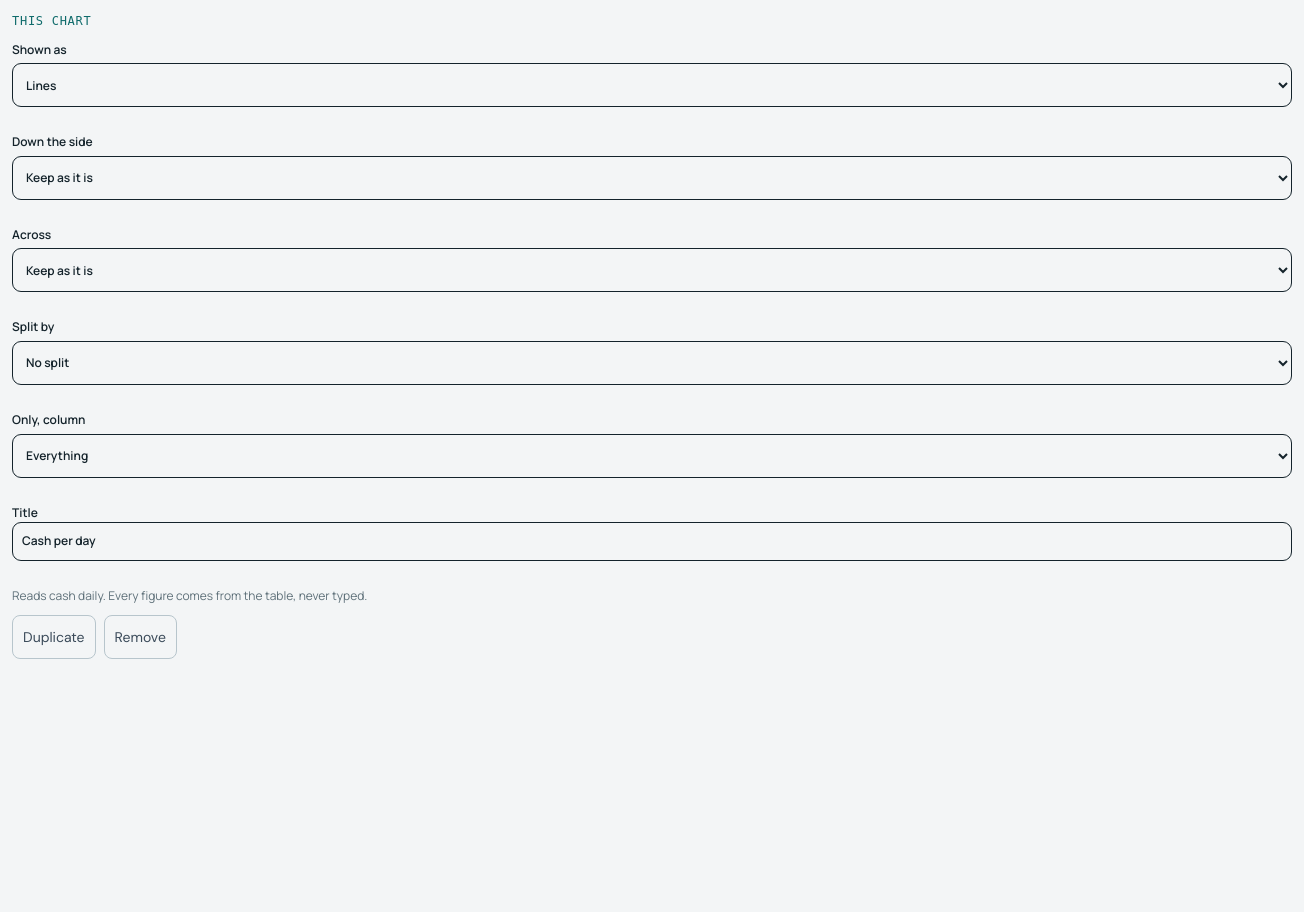
it: Inspector › says so when a change is refused
Select "Bars" in the dropdown labelled "Shown as" at [652, 85], box x1=12 y1=63 x2=1292 y2=107
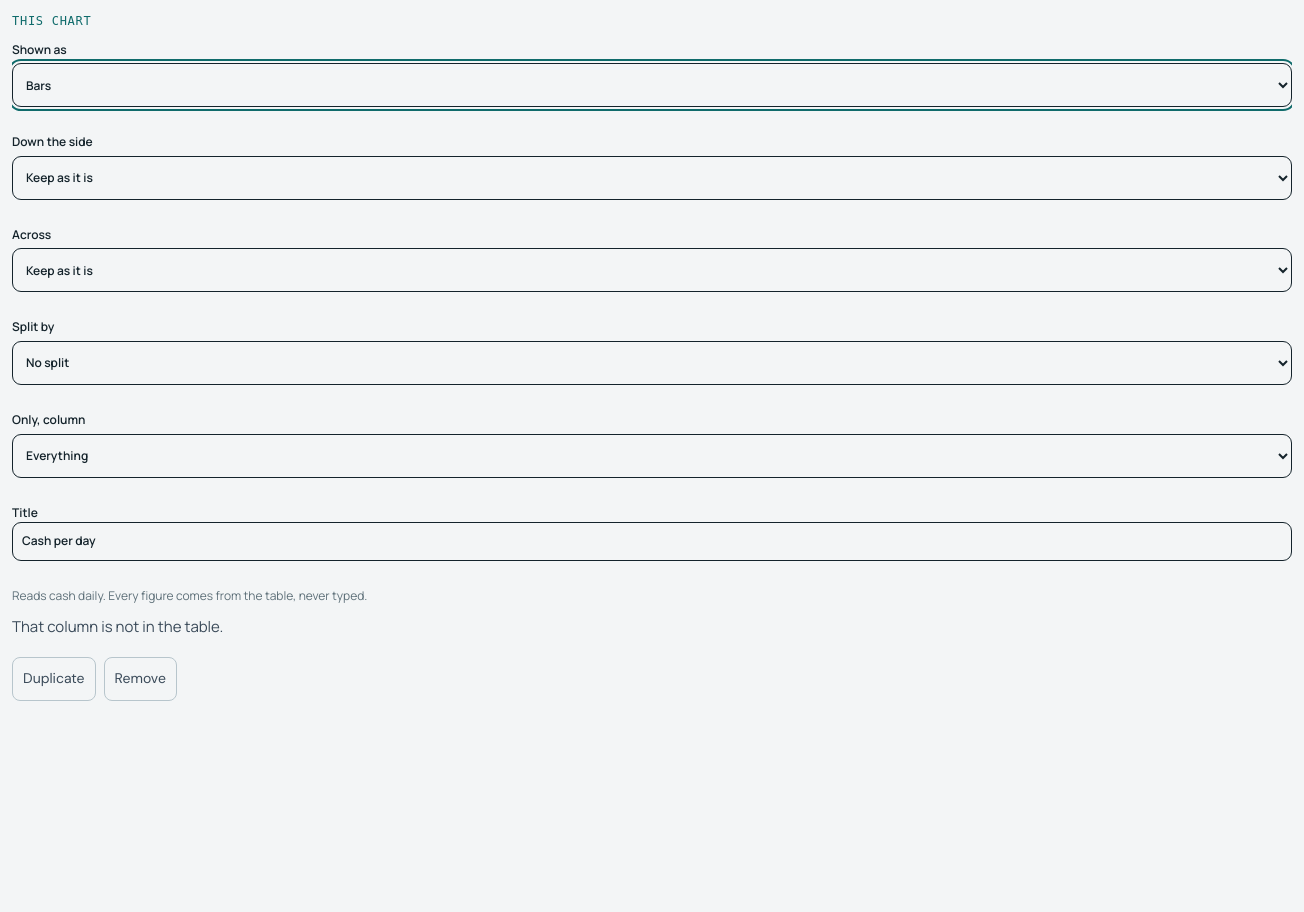
Check: the message "That column is not in the table." is shown, box x1=12 y1=616 x2=223 y2=637
